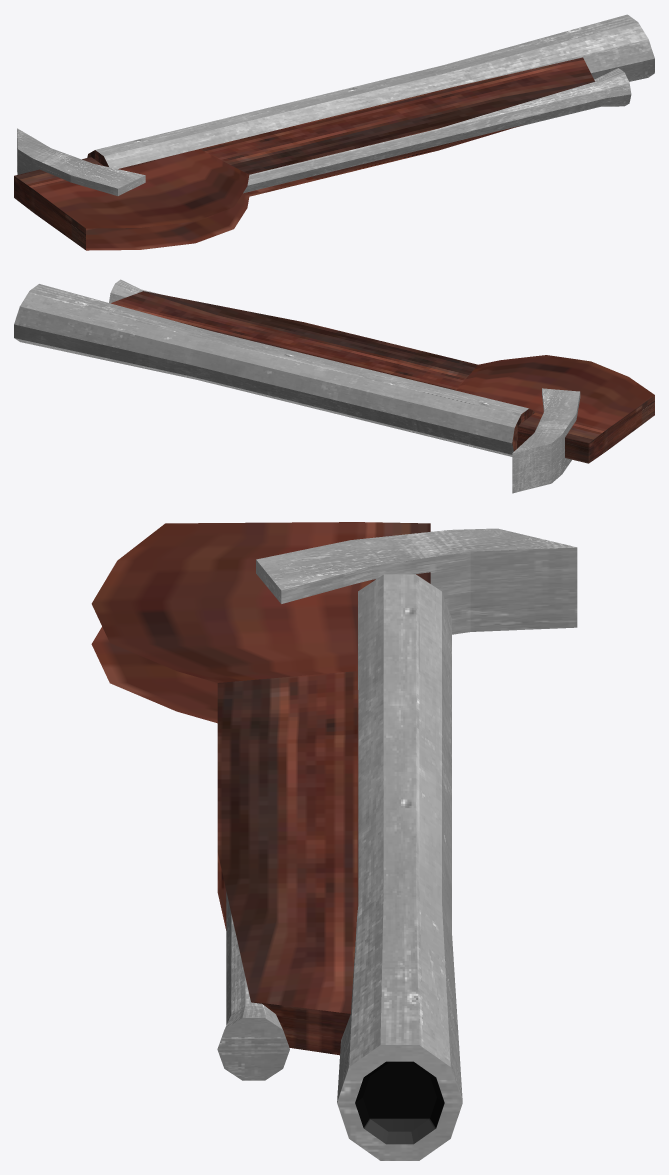
File: flintlock.fbx
3 views of the same model, one above another, from view 1: azimuth 30°, elevation 25°; view 2: azimuth 150°, elevation 25°; view 3: azimuth 270°, elevation 25° (orthographic). The views are drawn at different scales.
Visible parts, largest first — view 1: Cube.005; view 2: Cube.005; view 3: Cube.005.
Boxes of the visible parts, x1,y1,x2,y2 form: Cube.005: [14, 14, 654, 250]; Cube.005: [14, 279, 654, 493]; Cube.005: [91, 522, 577, 1160].
Size of the model in its own units: 1761 by 158 by 649.
Materials: 3 (3 with a texture image).
